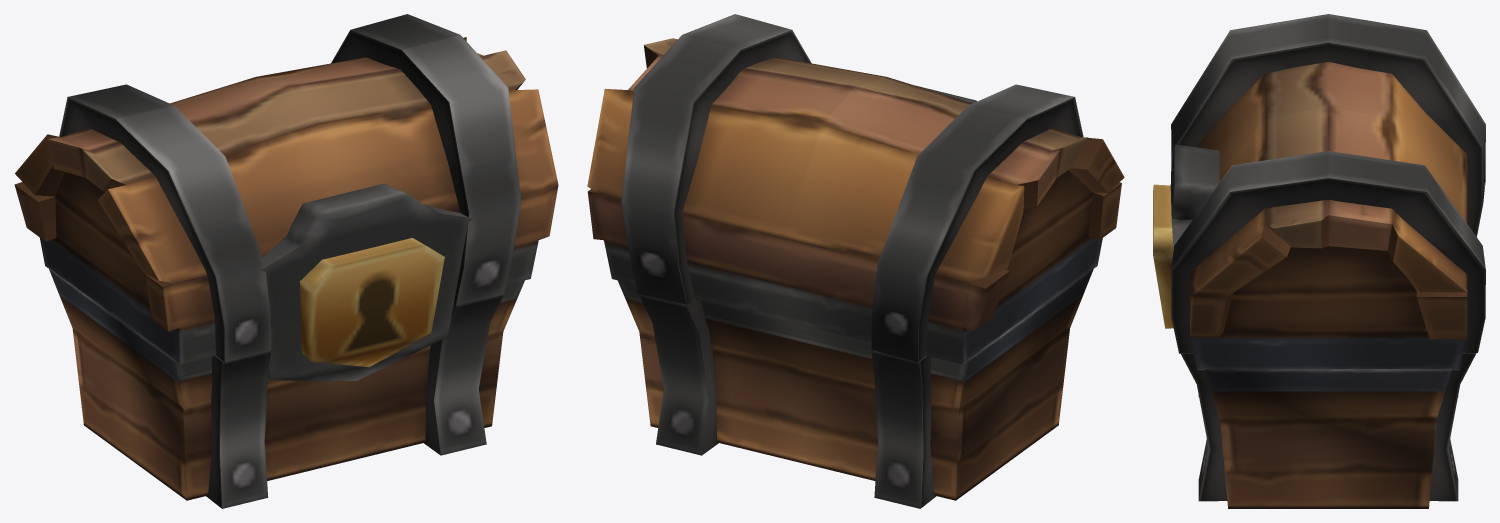
The model's file is DRP001_01.fbx.
3 views of the same model, side by side, from view 1: azimuth 30°, elevation 25°; view 2: azimuth 150°, elevation 25°; view 3: azimuth 270°, elevation 25° (orthographic). The views are drawn at different scales.
Parts seen in each view (by area): view 1: lid_ms, body_ms; view 2: lid_ms, body_ms; view 3: lid_ms, body_ms.
Part boxes in pixels (x1=…): lid_ms: x1=14, y1=14, x2=558, y2=380; body_ms: x1=48, y1=267, x2=524, y2=508; lid_ms: x1=587, y1=14, x2=1124, y2=364; body_ms: x1=617, y1=268, x2=1093, y2=508; lid_ms: x1=1153, y1=14, x2=1485, y2=370; body_ms: x1=1180, y1=352, x2=1476, y2=508.
Size of the model in its own units: 117 by 91.56 by 80.68.
